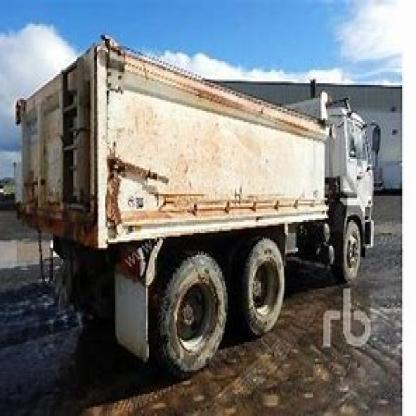dump_truck: (10, 24, 391, 375)
